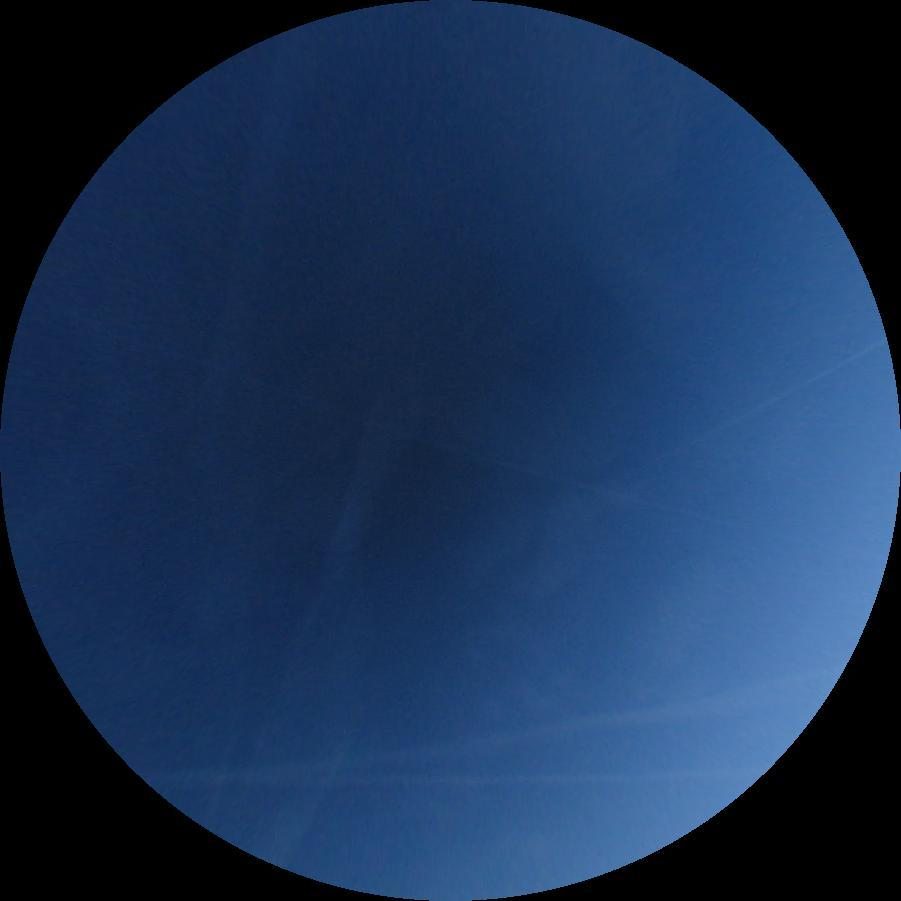contrail old: (26, 297, 770, 536)
contrail veryold: (227, 389, 487, 879), (169, 24, 301, 835), (141, 668, 834, 811), (153, 768, 769, 799)
contrail young: (603, 336, 885, 487)
